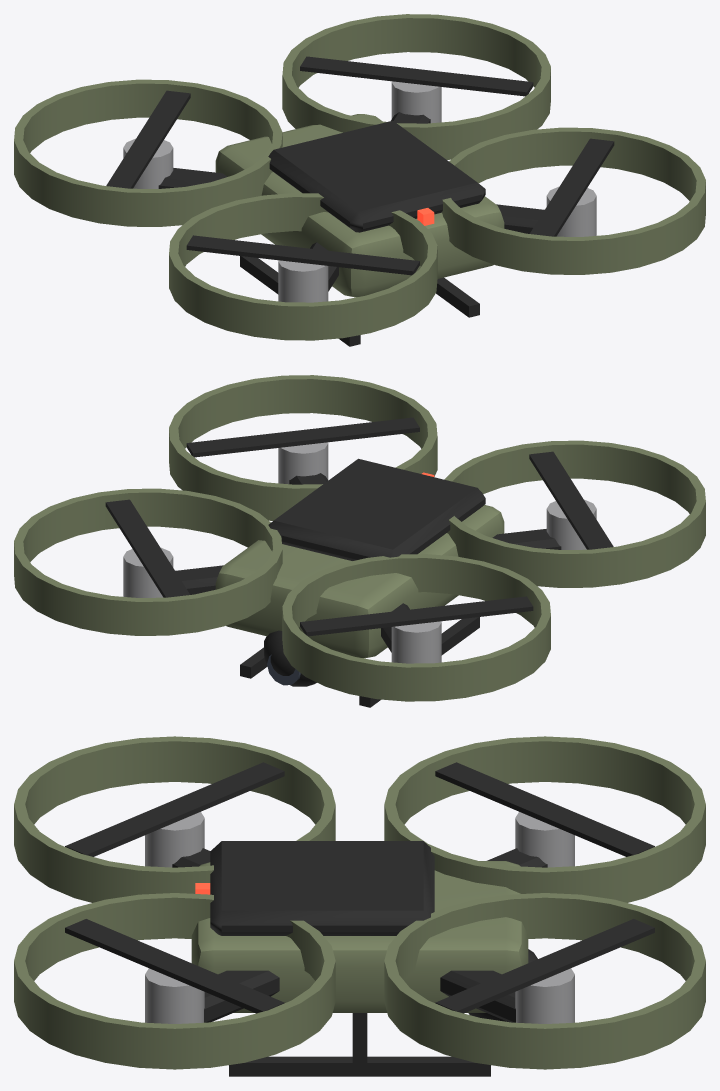
The model's file is camera_drone.glb.
The picture shows the model from 3 angles, top to bottom: view 1: azimuth 30°, elevation 25°; view 2: azimuth 150°, elevation 25°; view 3: azimuth 270°, elevation 25°; orthographic projection. The views are drawn at different scales.
Parts seen in each view (by area): view 1: body; view 2: body; view 3: body.
Boxes of the visible parts, box(x1,y1,x2,y2) form: body: box(14, 14, 705, 346); body: box(14, 375, 705, 707); body: box(14, 736, 705, 1076).
Size of the model in its own units: 0.185 by 0.048 by 0.185.
